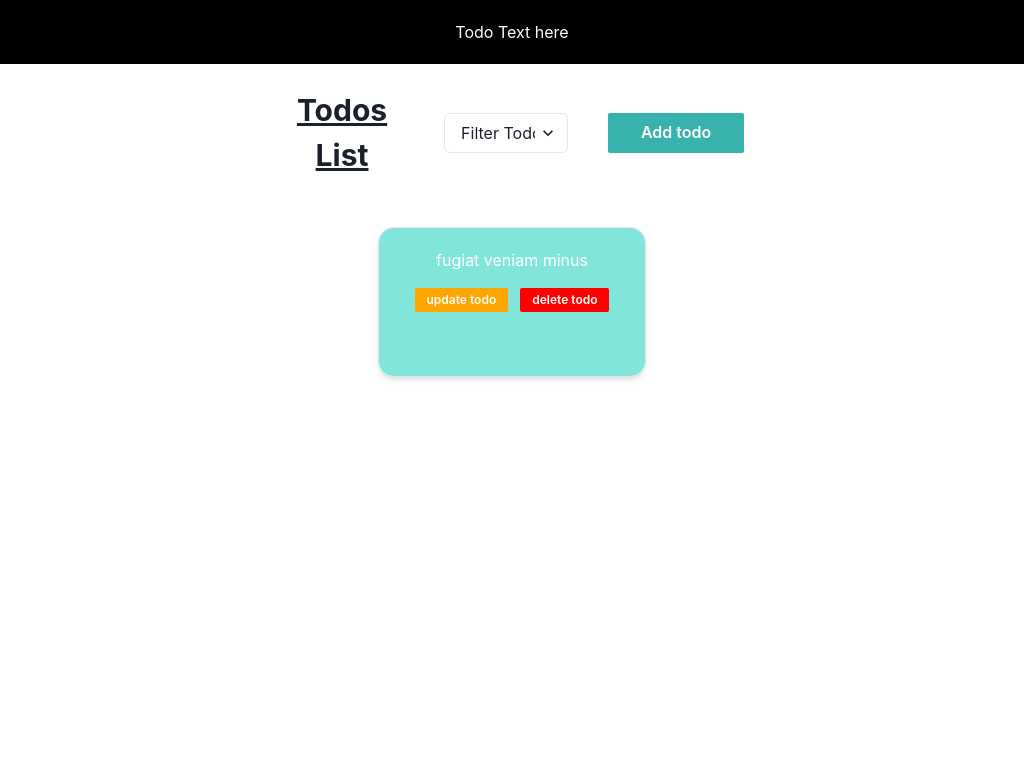
add todo button functioning
Click the button with test id "todo-add" at (676, 133), box [608, 113, 744, 153]
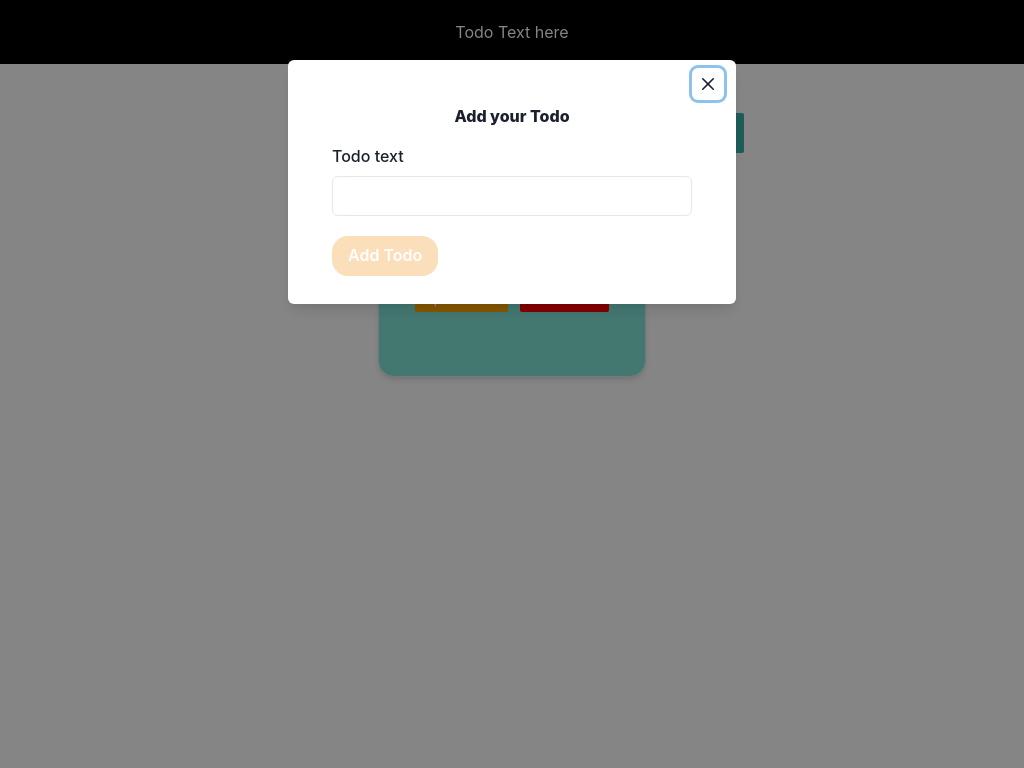
Result: the heading "Add your Todo" is shown at [454, 106, 570, 126]
Result: the button with test id "todo-button" is shown at [332, 236, 438, 276]
